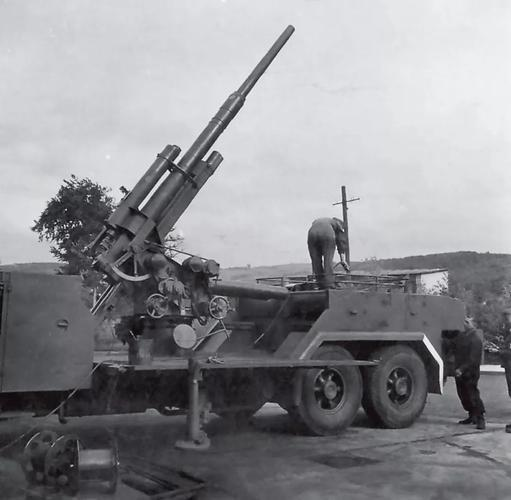MIL_SPG: (87, 26, 464, 447)
